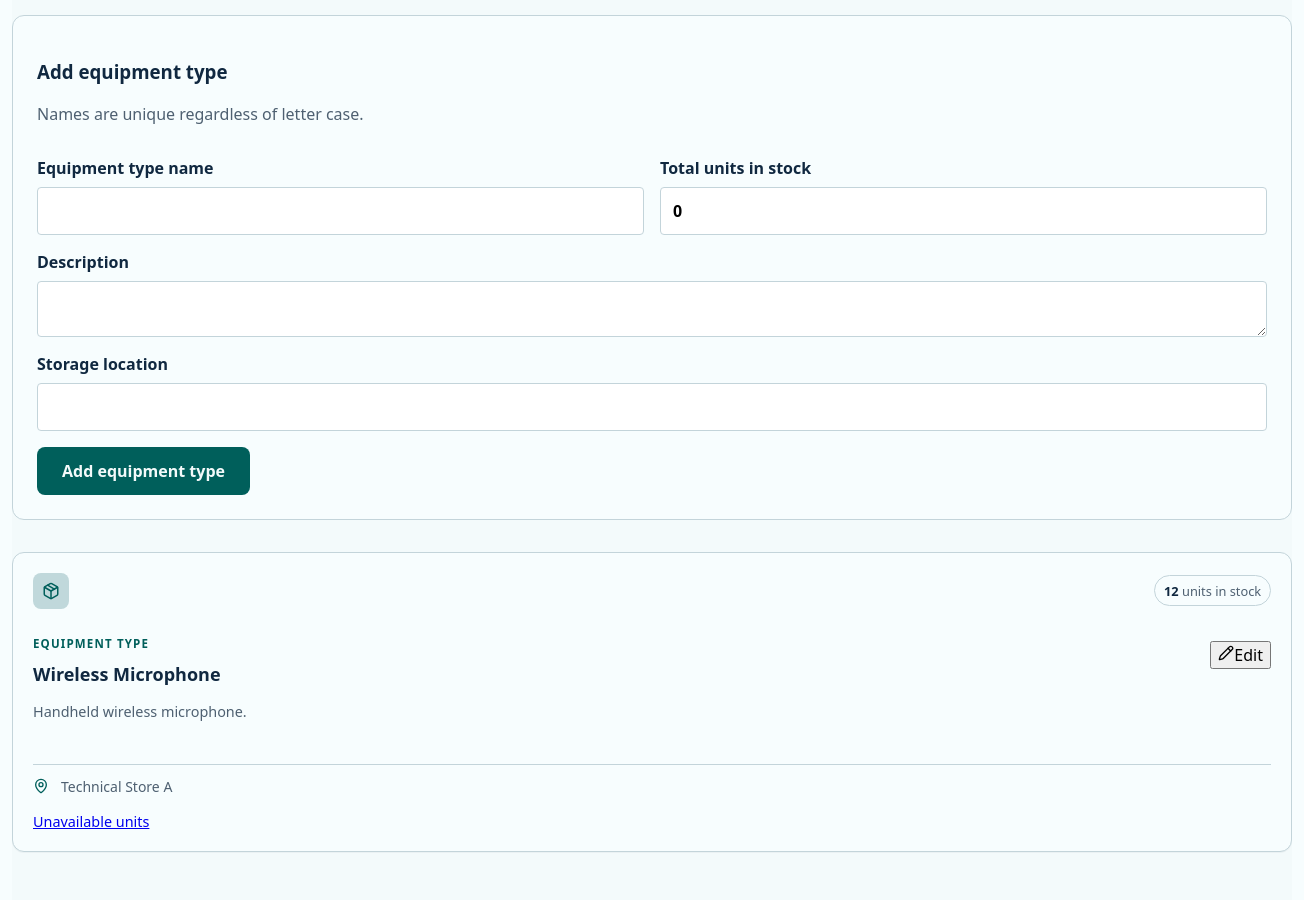
Test: EquipmentCatalogue › edits an existing equipment type
(page scrolled)
Expected: the heading "Wireless Microphone" is shown, [33,663,220,685]
Click the button with aria-label "Edit Wireless Microphone" at (1241, 655), box [1210,641,1271,669]
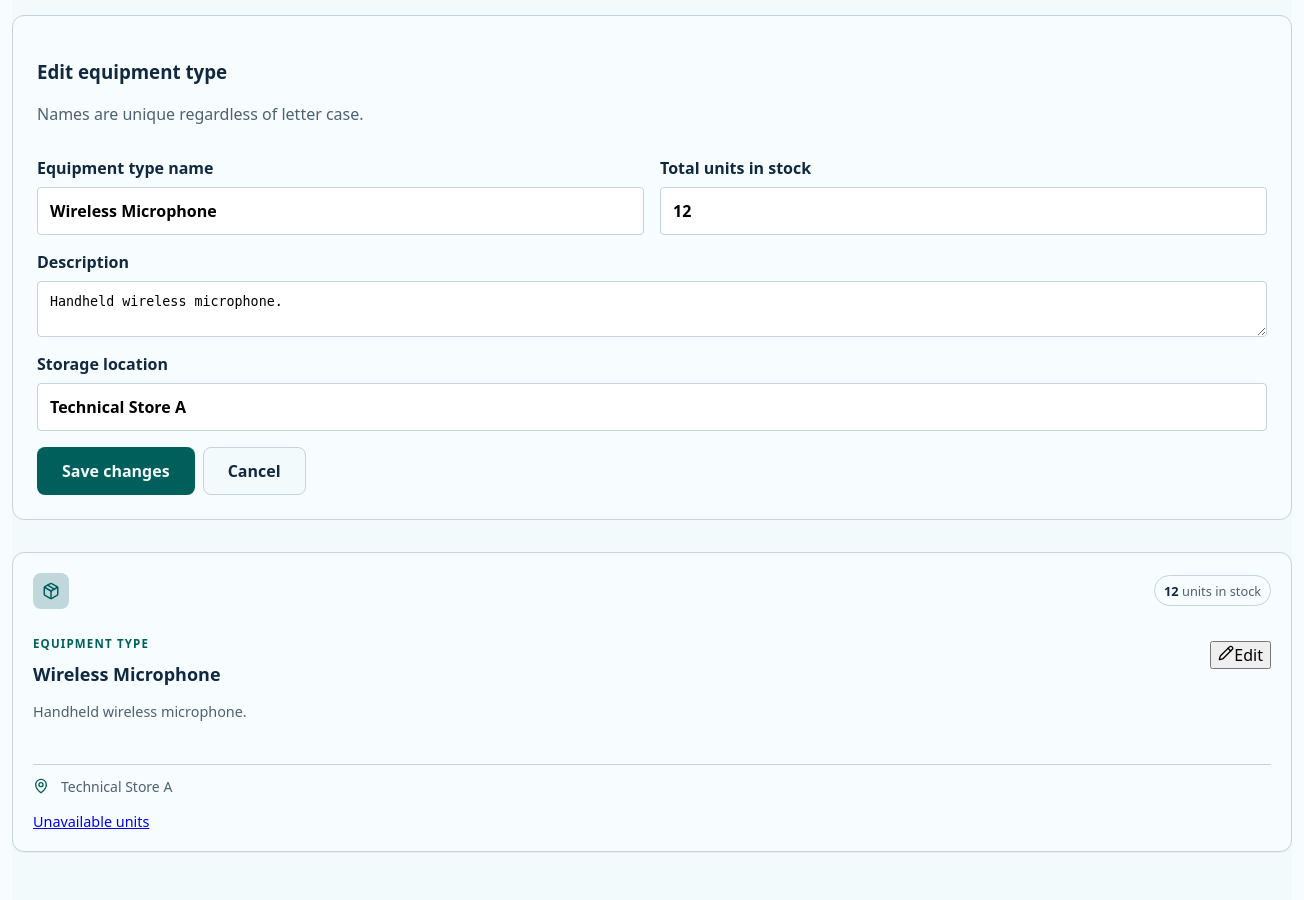
Replace the text in the number field labelled "Total units in stock" with "16" at (964, 211), box [660,187,1267,235]
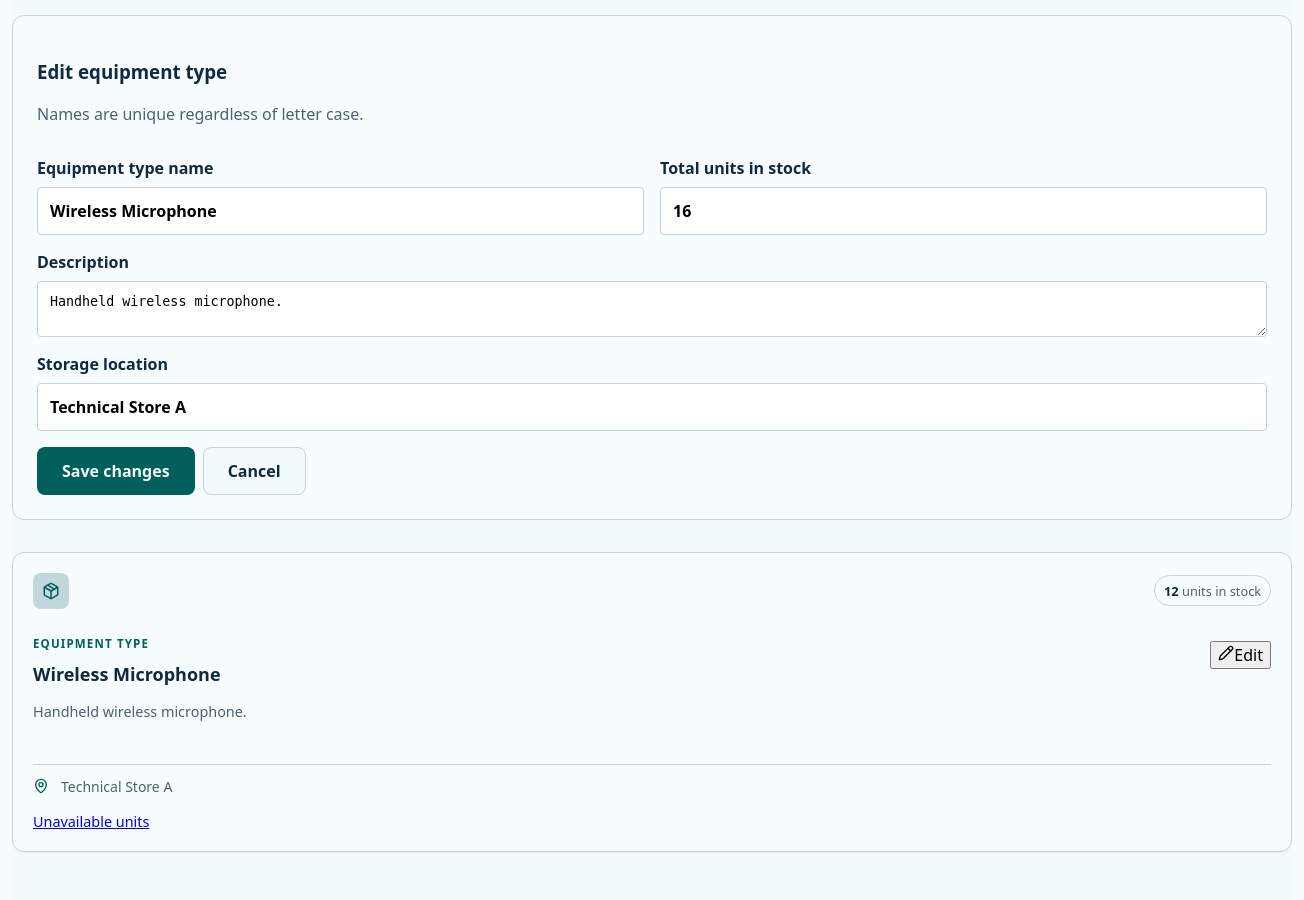
Click the button "Save changes" at (116, 471), box [37,447,195,495]
(page scrolled)
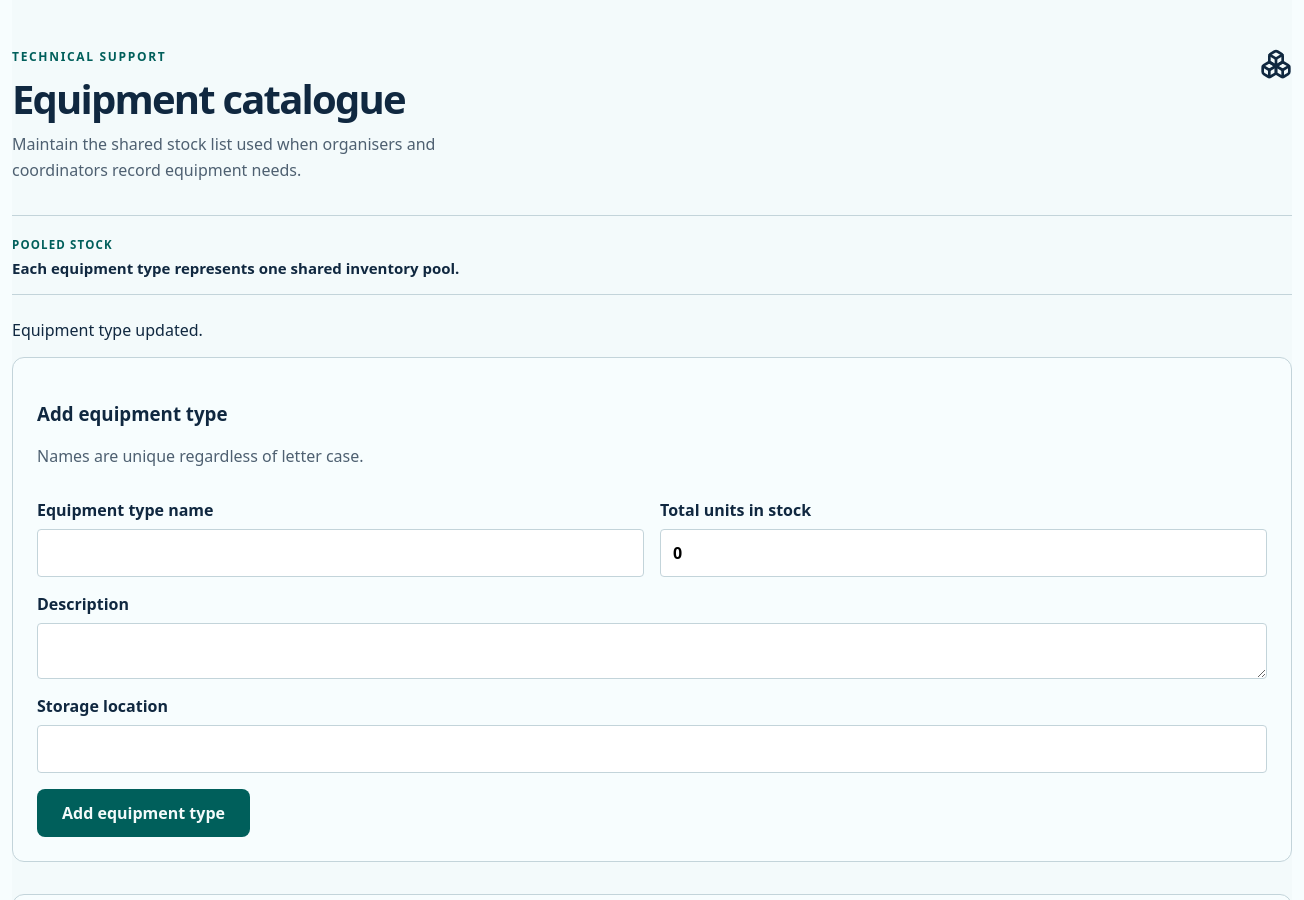
Result: the text "Equipment type updated." is shown at [12,319,203,341]
